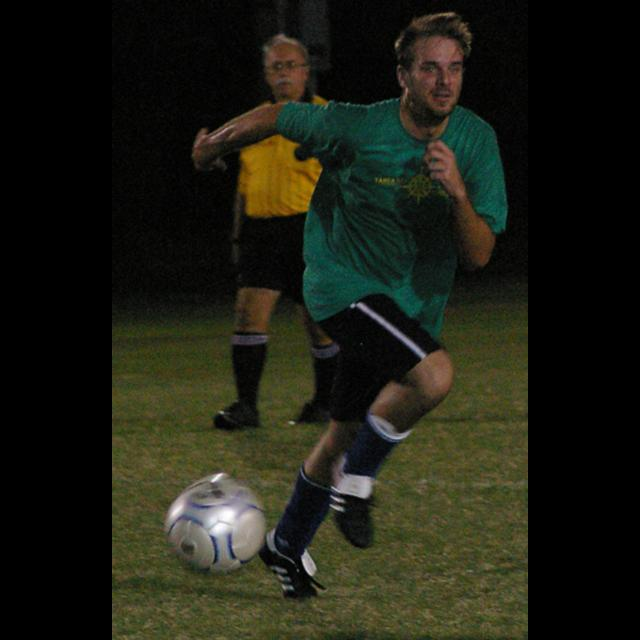Football: (166, 476, 266, 568)
